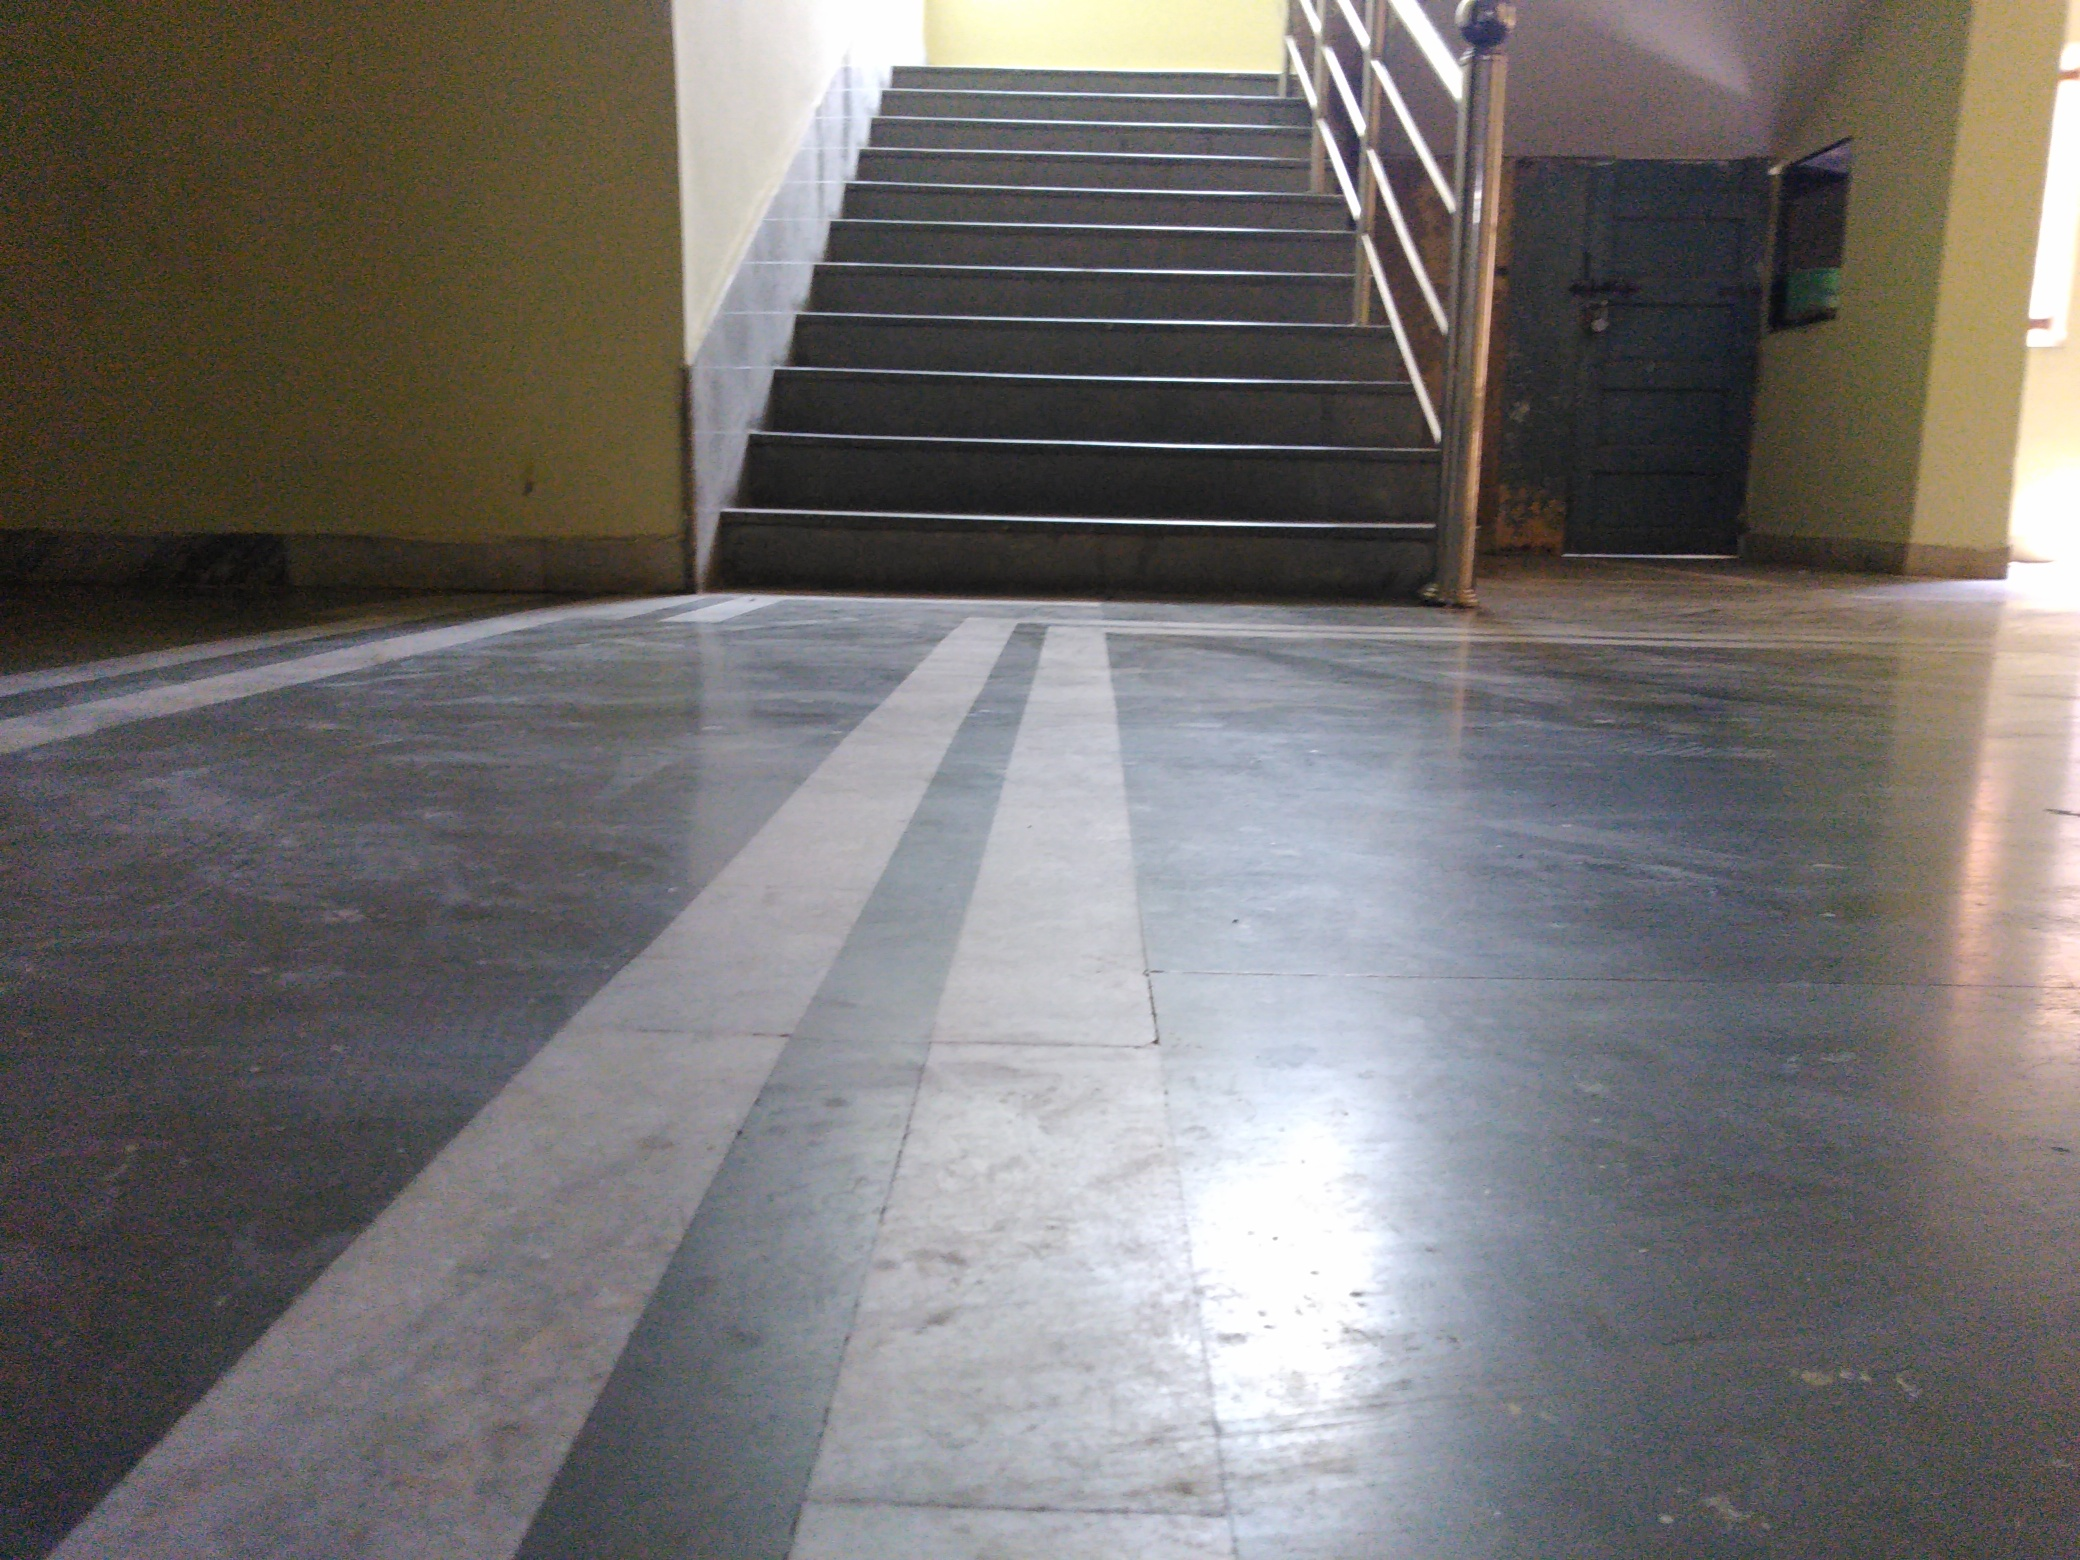stairs_up: (757, 57, 1461, 600)
